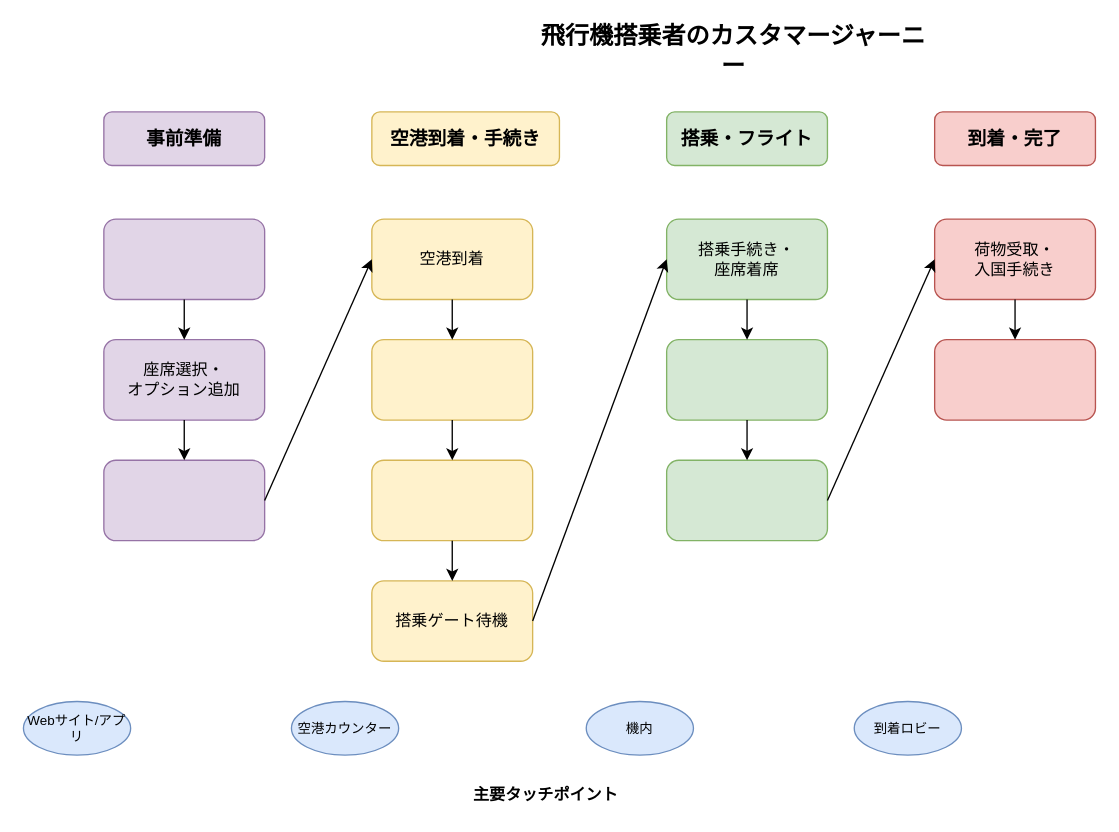
Image size: 1119x832. Some labels were removed from this diagram. Here are the shapes that lost their labels. From the top down, the centre of each, then its label:
At [184,258]: "航空券購入".
At [452,379]: "荷物預け・ カウンター手続き".
At [746,379]: "フライト・ 機内サービス".
At [1014,379]: "目的地到着".
At [184,500]: "オンライン チェックイン".
At [452,500]: "保安検査・ 出国手続き".
At [746,500]: "着陸・降機".
